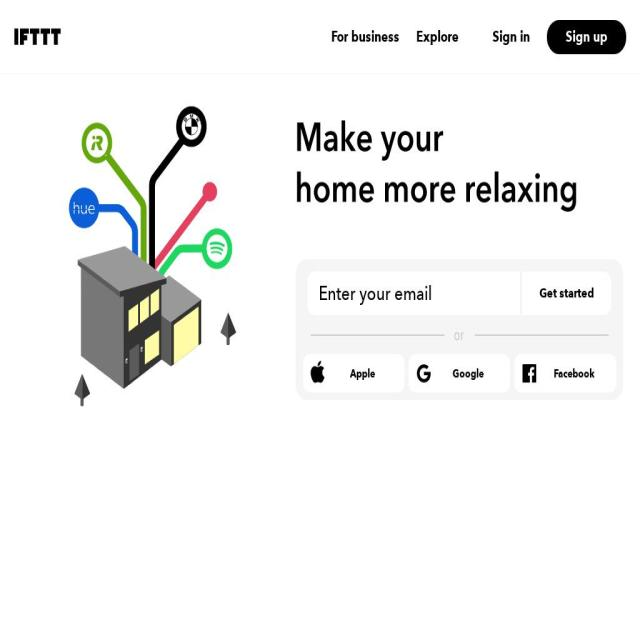button: (408, 354, 511, 394), (303, 354, 405, 394), (514, 354, 616, 394), (546, 19, 626, 54), (475, 22, 547, 52), (14, 26, 61, 46)
field: (308, 272, 520, 315), (520, 272, 612, 315)
image: (17, 96, 623, 422), (84, 545, 556, 640), (310, 331, 609, 350), (14, 26, 61, 46)
link: (330, 29, 400, 45), (416, 29, 458, 45)
text: (554, 368, 594, 379), (452, 368, 484, 379), (349, 368, 375, 379)
